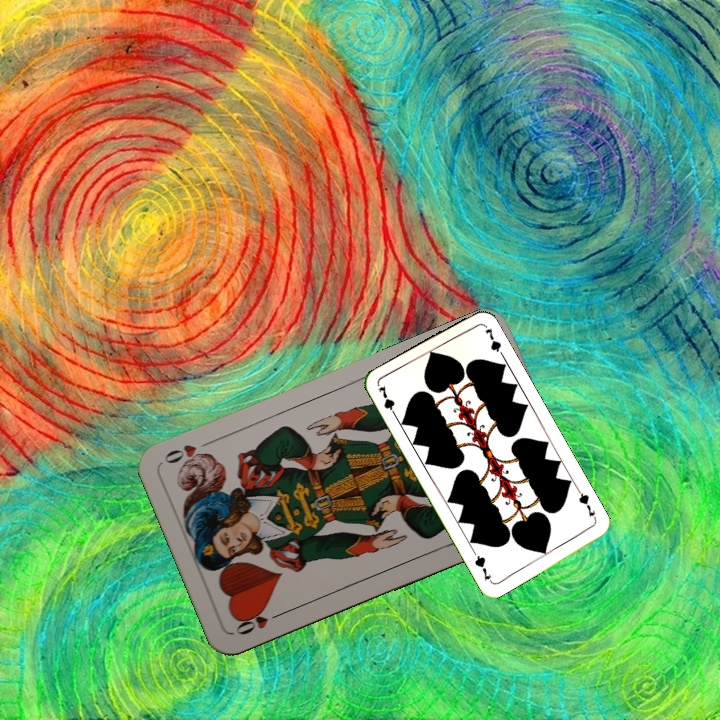G7: (374, 381, 400, 420), (574, 486, 599, 523)
HO: (231, 607, 287, 638)
